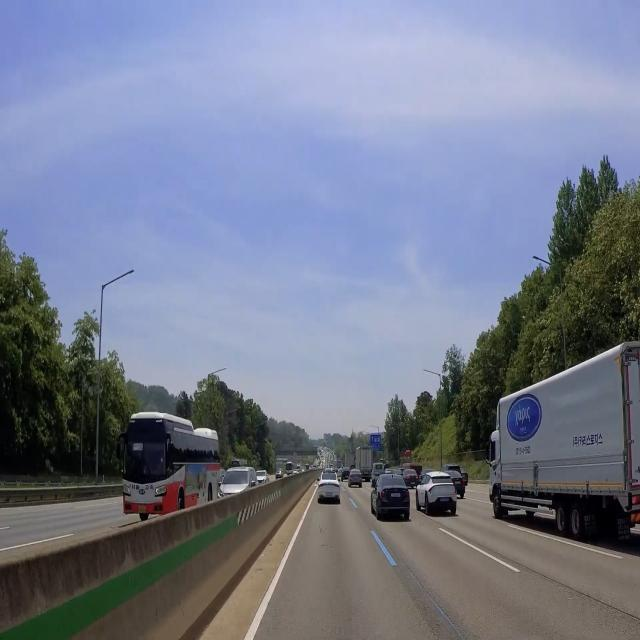car: (390, 490, 402, 500), (440, 496, 449, 503), (325, 491, 333, 498), (454, 481, 461, 485), (410, 481, 416, 485)
carev: (440, 498, 442, 502), (447, 497, 448, 502)
